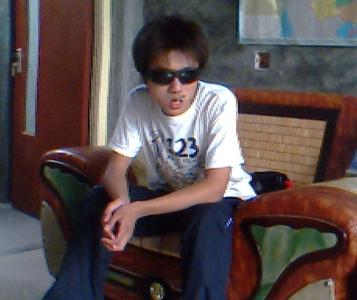person: (41, 16, 254, 300)
